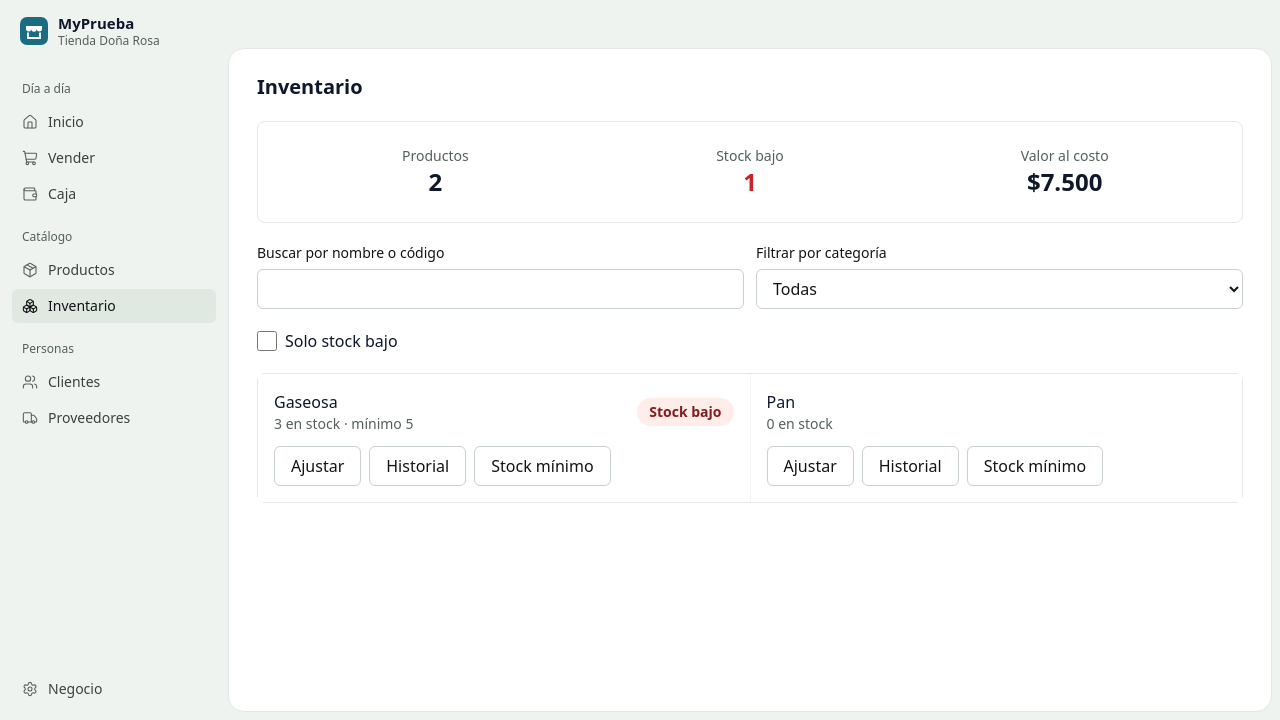
inventory page › shows the summary, stock levels and low-stock filter
The width and height of the screenshot is (1280, 720).
Expected: the text "$7.500" is shown, [1027, 165, 1102, 198]
Expected: the text "1" is shown, [743, 165, 757, 198]
Click the checkbox labelled "Solo stock bajo" at (267, 341), box [257, 331, 277, 351]
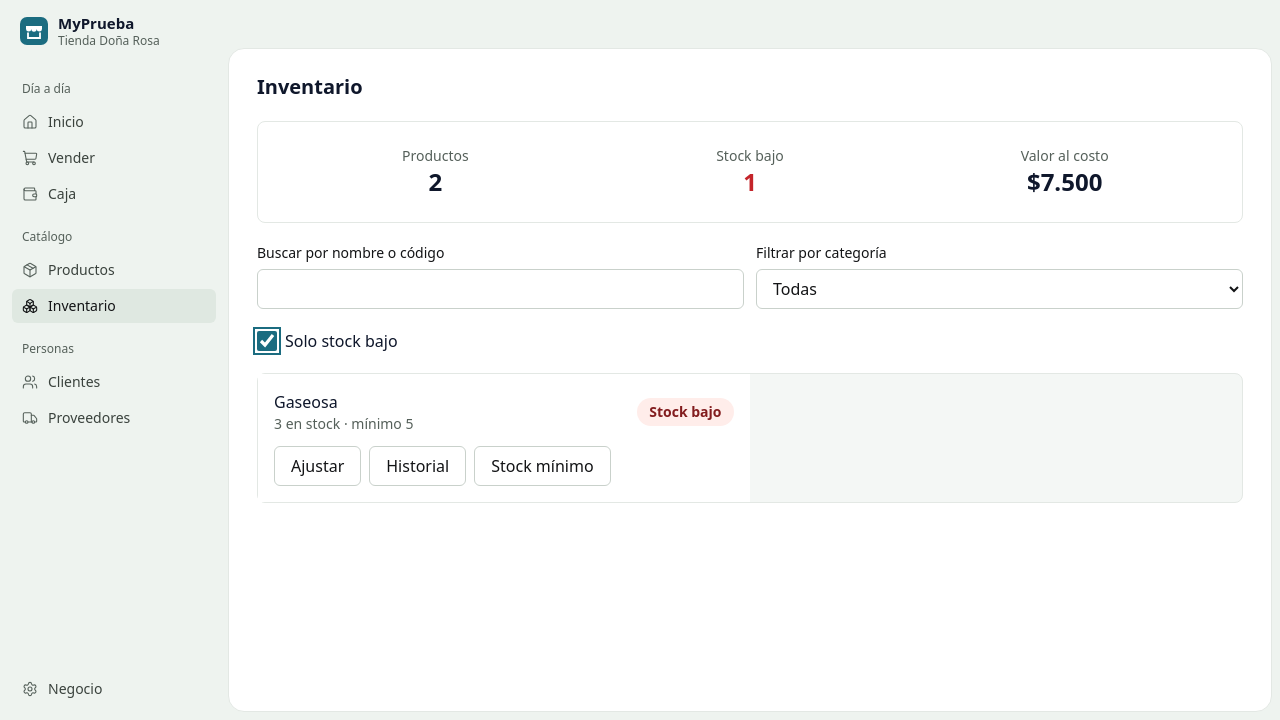
Expected: the text "Pan" is gone
